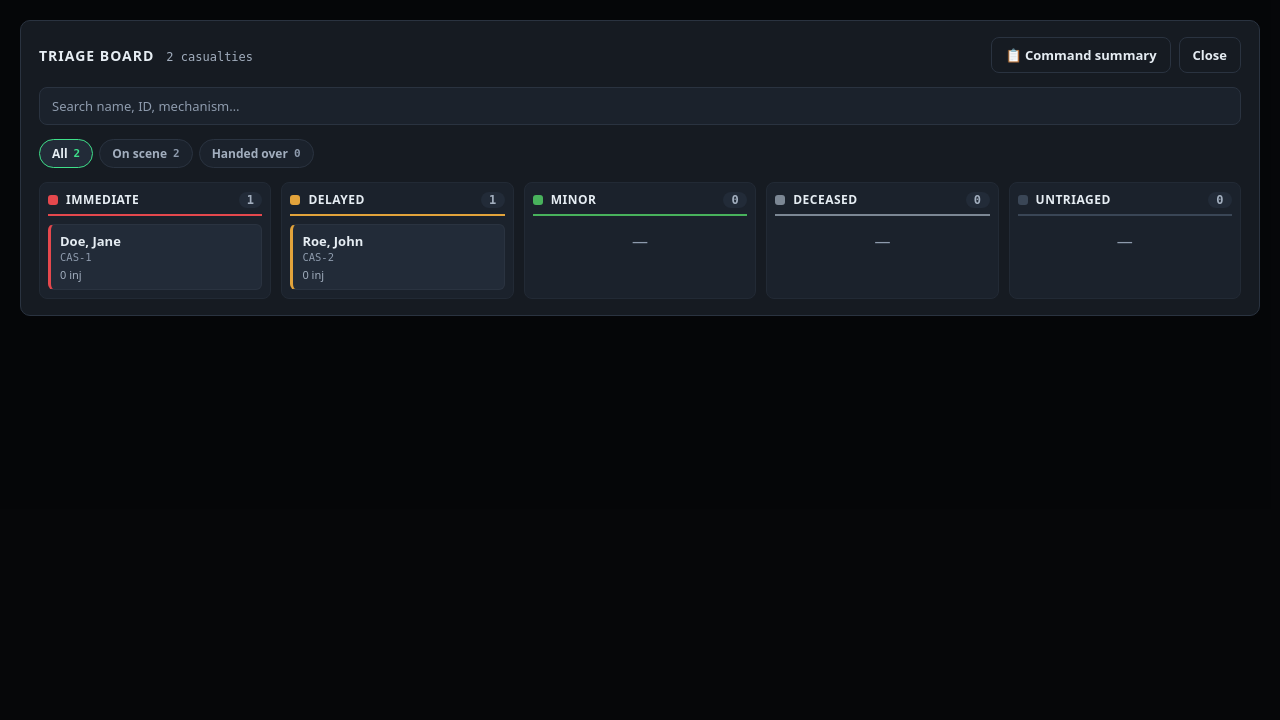
Test: TriageBoard search › filters cards by query and shows a no-match message
Expected: the text "Doe, Jane" is shown, 60,232 -> 121,250
Expected: the text "Roe, John" is shown, 302,232 -> 363,250
Note: Typing a name narrows to the matching card.
In the search field: [640, 106] box 39,87 -> 1241,125, type "jane"
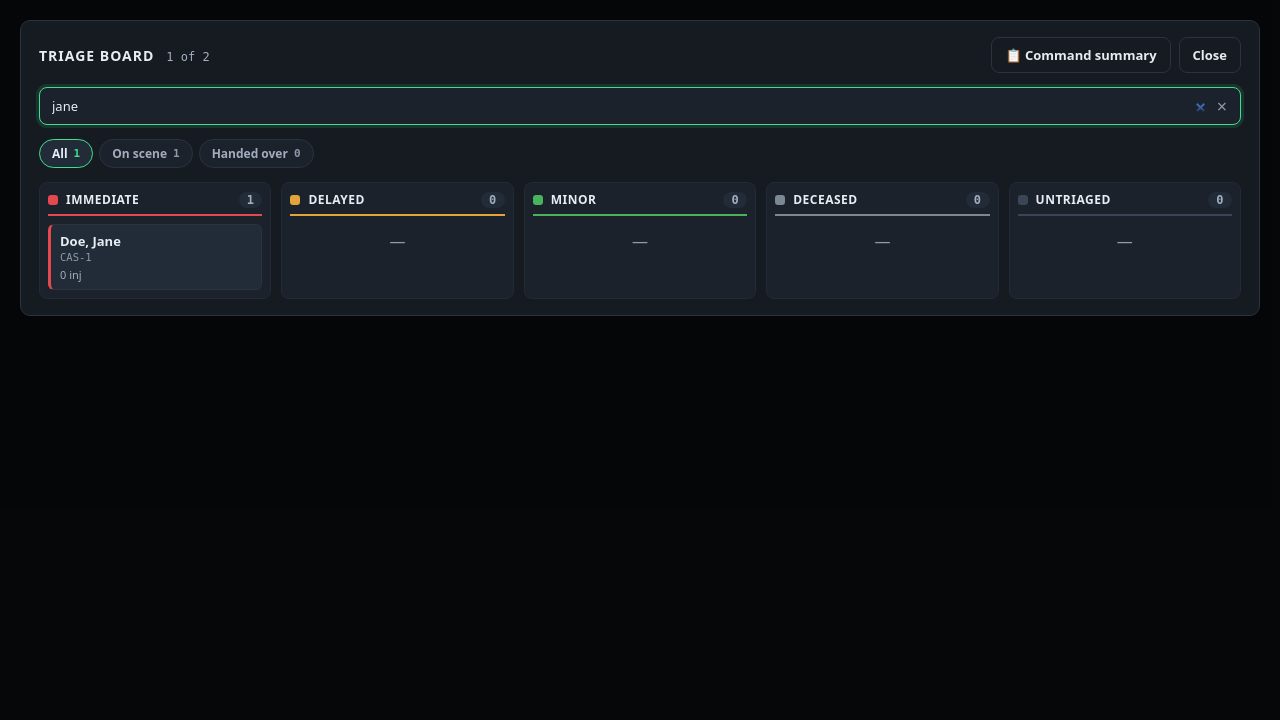
Expected: the text "Doe, Jane" is shown, 60,232 -> 121,250
Expected: the button "Roe, John" is gone
Note: A non-matching query shows the empty-result message.
Replace the text in the search field with "zzz": [640, 106] box 39,87 -> 1241,125
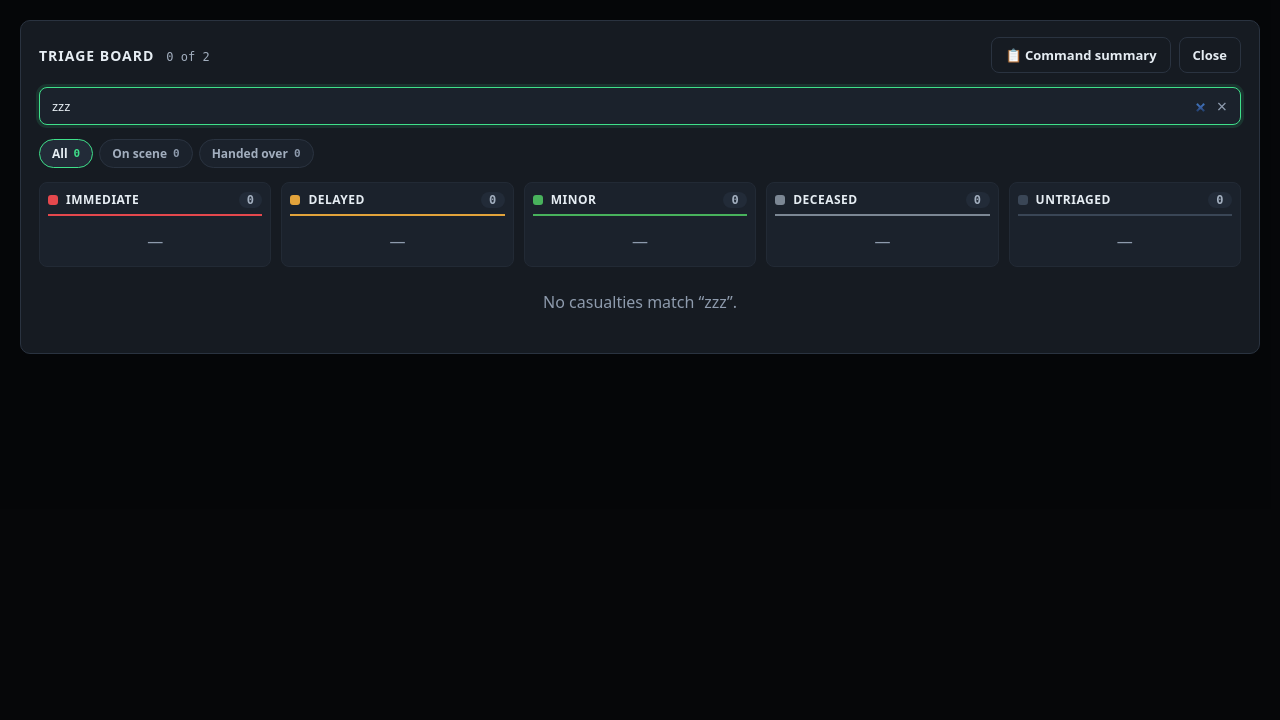
Expected: the text "No casualties match “zzz”." is shown, 543,291 -> 737,313
